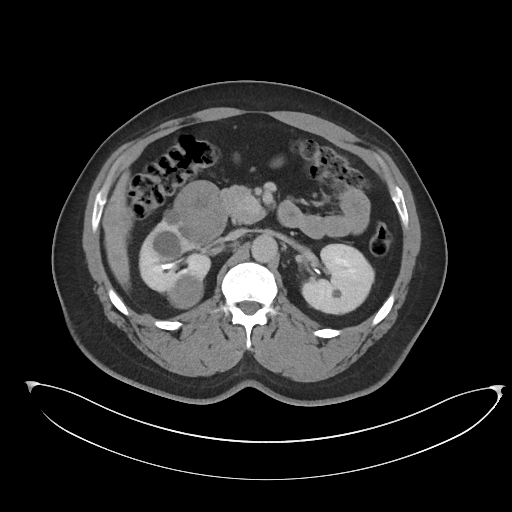Lesion: (169, 176, 228, 251)
